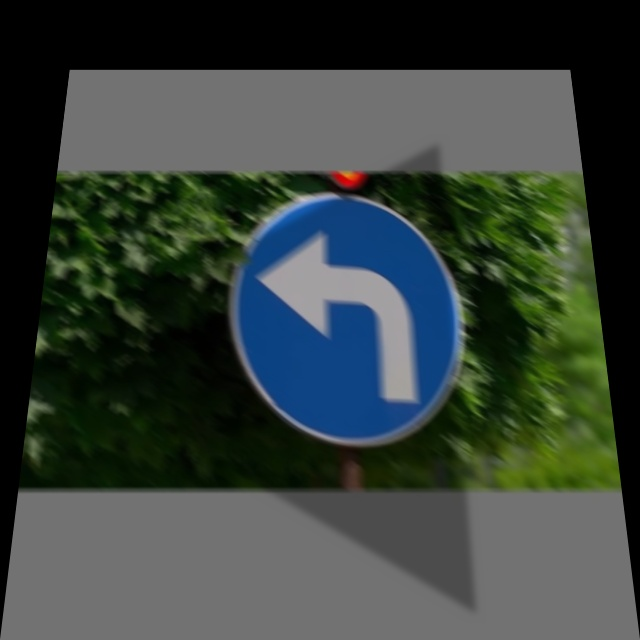Compulsory_Turn_Left_Ahead: (223, 193, 466, 440)
